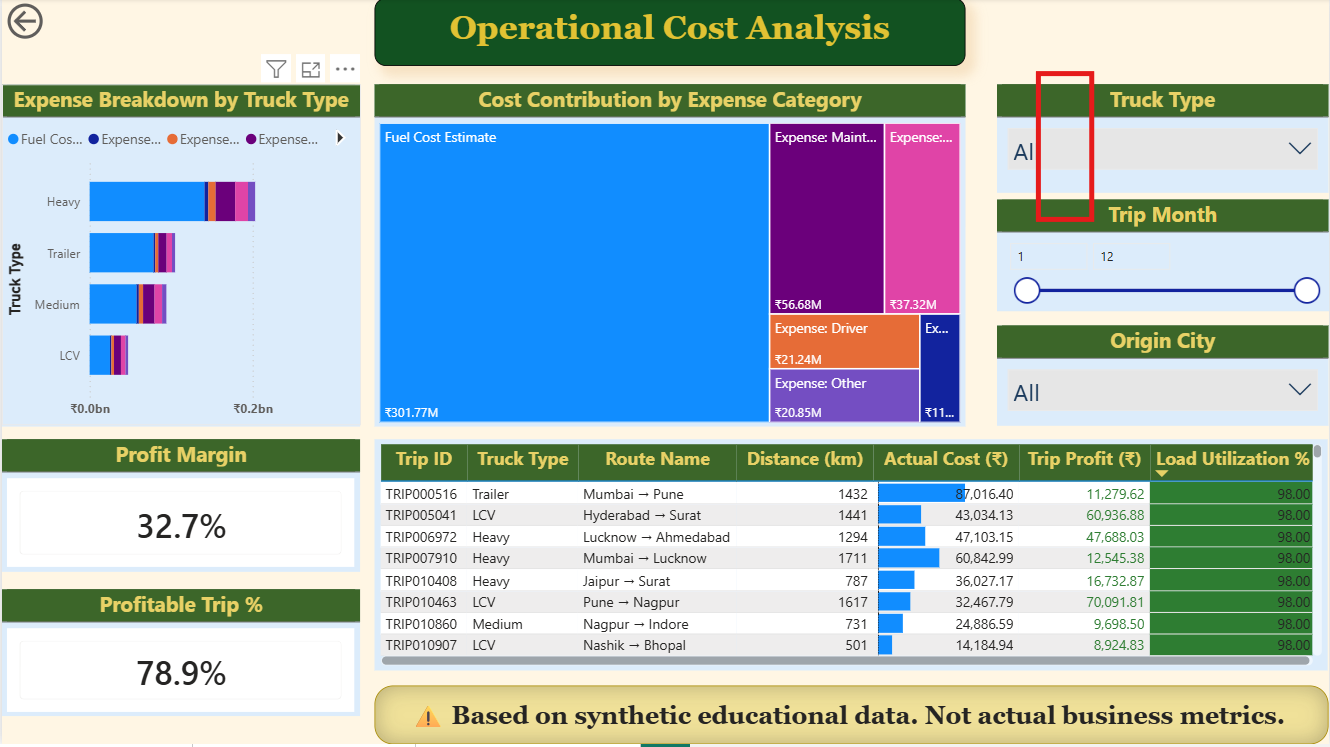

What the dashboard file says about the page in this screenshot:
{"tool":"powerbi","page":{"name":"Operational Cost Analysis","canvas":[1280,720],"ordinal":2},"visuals":[{"type":"textbox","box":[359.6,0,570.5,65.7],"z":0},{"type":"textbox","box":[359.5,663.5,920.5,56.7],"z":1000},{"type":"barChart","title":"Expense Breakdown by Truck Type","fields":{"Category":["indian_logistics_db dim_truck_type.truck_type"],"Y":["_Measures.Fuel Cost Estimate","_Measures.Expense: Toll","_Measures.Expense: Driver","_Measures.Expense: Maintenance","_Measures.Expense: Loading","_Measures.Expense: Other"]},"box":[0,83,345.8,330.2],"z":1001},{"type":"treemap","title":"Cost Contribution by Expense Category","fields":{"Values":["_Measures.Fuel Cost Estimate","_Measures.Expense: Toll","_Measures.Expense: Driver","_Measures.Expense: Maintenance","_Measures.Expense: Loading","_Measures.Expense: Other"]},"box":[359.6,83,570.5,330.2],"z":1002},{"type":"cardVisual","title":"Profit Margin","fields":{"Data":["_Measures.Profit Margin %"]},"box":[0,425.3,345.8,127.9],"z":1003},{"type":"cardVisual","title":"Profitable Trip %","fields":{"Data":["_Measures.Profitable Trip %"]},"box":[0,570.5,345.8,122.7],"z":1004},{"type":"tableEx","fields":{"Values":["indian_logistics_db fact_trip_cost.trip_id","indian_logistics_db dim_truck_type.truck_type","indian_logistics_db fact_trip_cost.Route Name","Sum(indian_logistics_db fact_trip_cost.distance_km)","Sum(indian_logistics_db fact_trip_cost.actual_trip_cost_inr)","Sum(indian_logistics_db fact_trip_cost.trip_profit_inr)","Sum(indian_logistics_db fact_trip_cost.load_utilization_pct)"]},"box":[359.6,425.3,919.7,223],"z":1005},{"type":"slicer","title":"Truck Type","fields":{"Values":["indian_logistics_db dim_truck_type.truck_type"]},"box":[960.3,83.2,319.7,105],"z":1007},{"type":"slicer","title":"Trip Month","fields":{"Values":["indian_logistics_db fact_trip_cost.trip_month"]},"box":[960.3,194.2,319.7,107.4],"z":1008},{"type":"slicer","title":"Origin City","fields":{"Values":["indian_logistics_db dim_route.origin_city"]},"box":[960.3,316.1,319.7,96.5],"z":1009},{"type":"actionButton","box":[0,0,44.6,44.6],"z":1010}]}

Visuals, with their boxes in screenshot pixels (x1, y1, x2, y2), scaled from the page's 1280x720 canvas onto the 1330x747 screenshot:
textbox: <box>374,0,966,68</box>
textbox: <box>374,688,1329,746</box>
"Expense Breakdown by Truck Type" barChart: <box>0,86,359,429</box>
"Cost Contribution by Expense Category" treemap: <box>374,86,966,429</box>
"Profit Margin" cardVisual: <box>0,441,359,574</box>
"Profitable Trip %" cardVisual: <box>0,592,359,719</box>
tableEx - indian_logistics_db fact_trip_cost.trip_id x indian_logistics_db dim_truck_type.truck_type: <box>374,441,1329,673</box>
"Truck Type" slicer: <box>998,86,1329,195</box>
"Trip Month" slicer: <box>998,201,1329,313</box>
"Origin City" slicer: <box>998,328,1329,428</box>
actionButton: <box>0,0,46,46</box>
